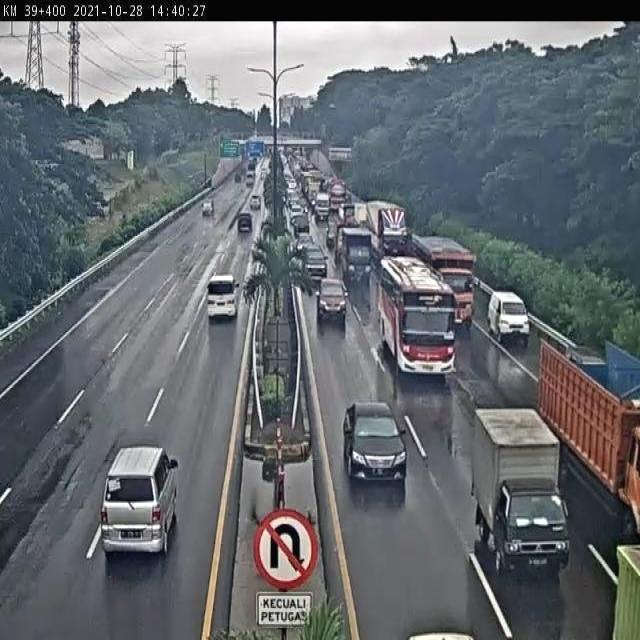Bus: (376, 255, 458, 377), (329, 180, 347, 212), (314, 192, 330, 222)
Car: (342, 400, 406, 489), (317, 277, 348, 327), (302, 245, 328, 281), (290, 209, 309, 234), (238, 212, 252, 234), (202, 200, 214, 216), (250, 194, 260, 210)
Truck: (536, 335, 640, 544), (469, 406, 567, 578), (409, 235, 475, 328), (362, 200, 407, 260), (339, 226, 374, 288)
Van: (100, 444, 179, 555), (488, 291, 530, 347), (206, 273, 240, 320)
